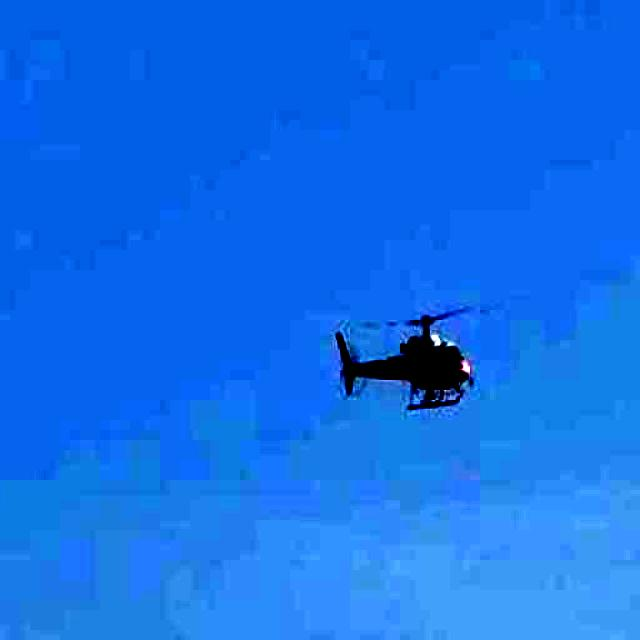drone: (304, 284, 534, 436)
